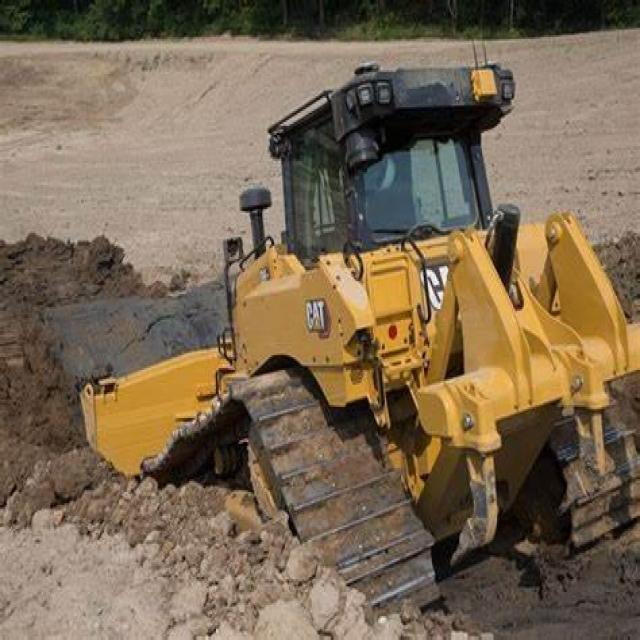Bulldozer: (57, 55, 637, 610)
